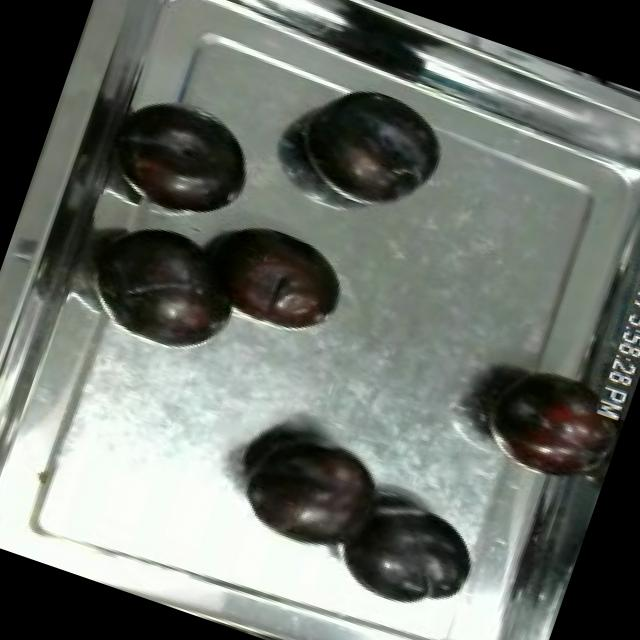Fruit: (78, 202, 260, 370), (280, 68, 458, 226), (220, 410, 396, 568), (99, 80, 274, 238), (184, 202, 362, 350), (468, 344, 635, 500), (329, 483, 490, 625)
